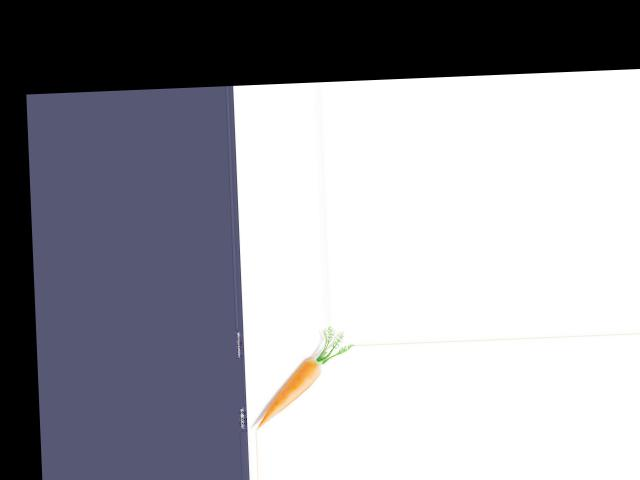carrot: (250, 347, 342, 429)
